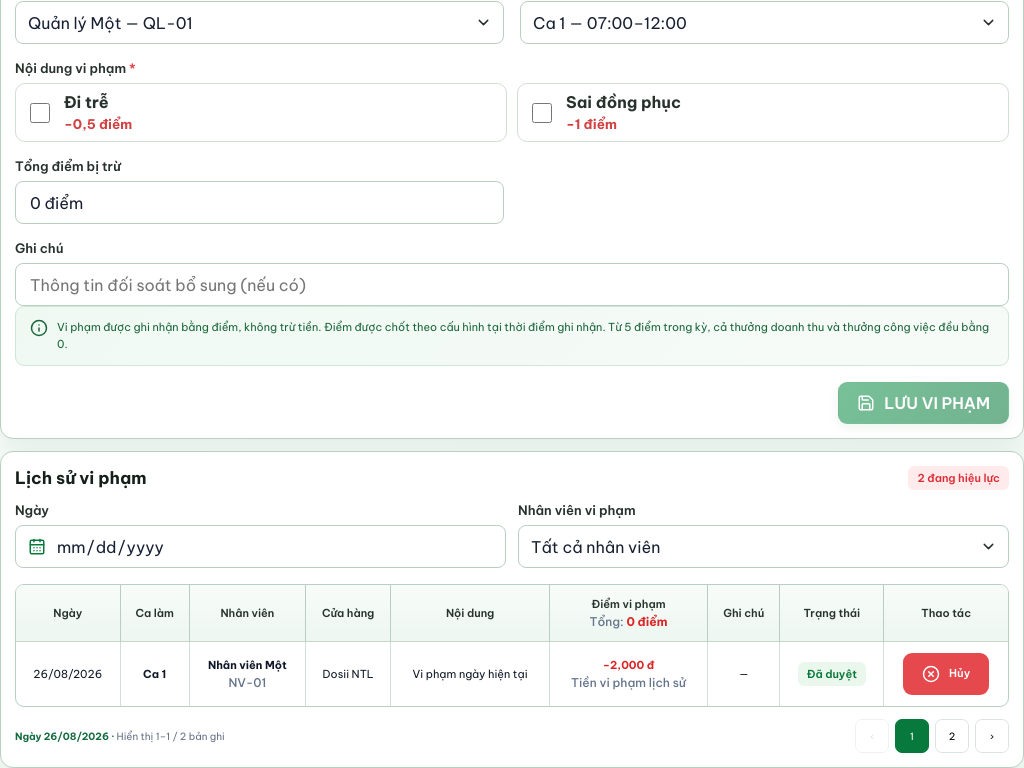
it: compensation pages › shows current-day store violations first and paginates older violations
(page scrolled)
Expected: the text "Vi phạm ngày hiện tại" is shown, [391,642,549,706]
Expected: the text "Vi phạm ngày cũ" is not shown
Click the button named "Trang 2": {"x": 952, "y": 736} [935,719,969,753]
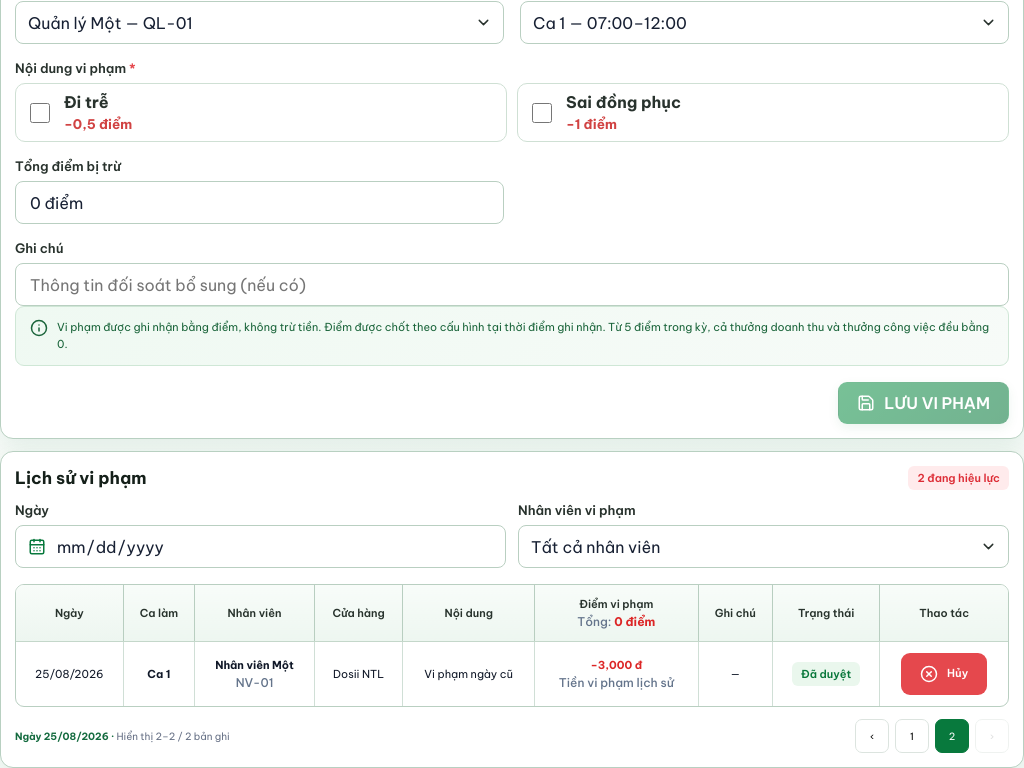
Now the text "Vi phạm ngày cũ" is shown, box [403,642,535,706]
